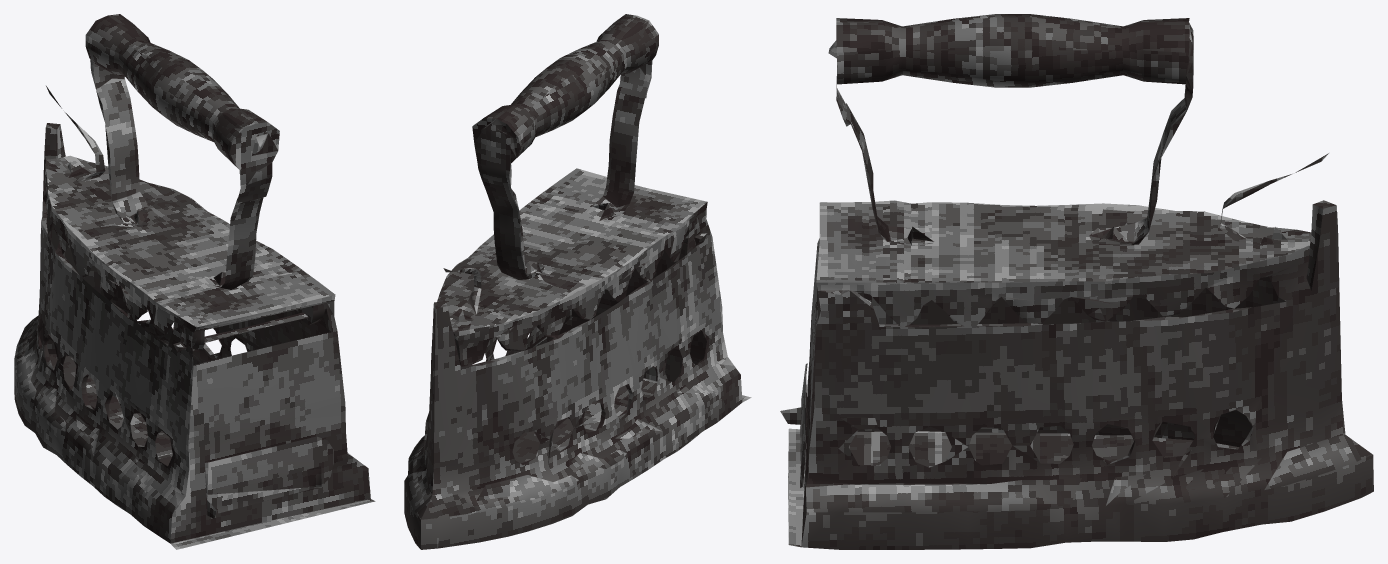
File: iron_antique.glb
3 renders of one model, left to right at view 1: azimuth 30°, elevation 25°; view 2: azimuth 150°, elevation 25°; view 3: azimuth 270°, elevation 25°, orthographic. The views are drawn at different scales.
Parts seen in each view (by area): view 1: mesh; view 2: mesh; view 3: mesh.
Part boxes in pixels (x1,y1,x2,y2): mesh: (14,14,375,549); mesh: (404,14,751,549); mesh: (780,14,1373,549).
Size of the model in its own units: 0.0791 by 0.15 by 0.1702.
1 material, 1 textured.
